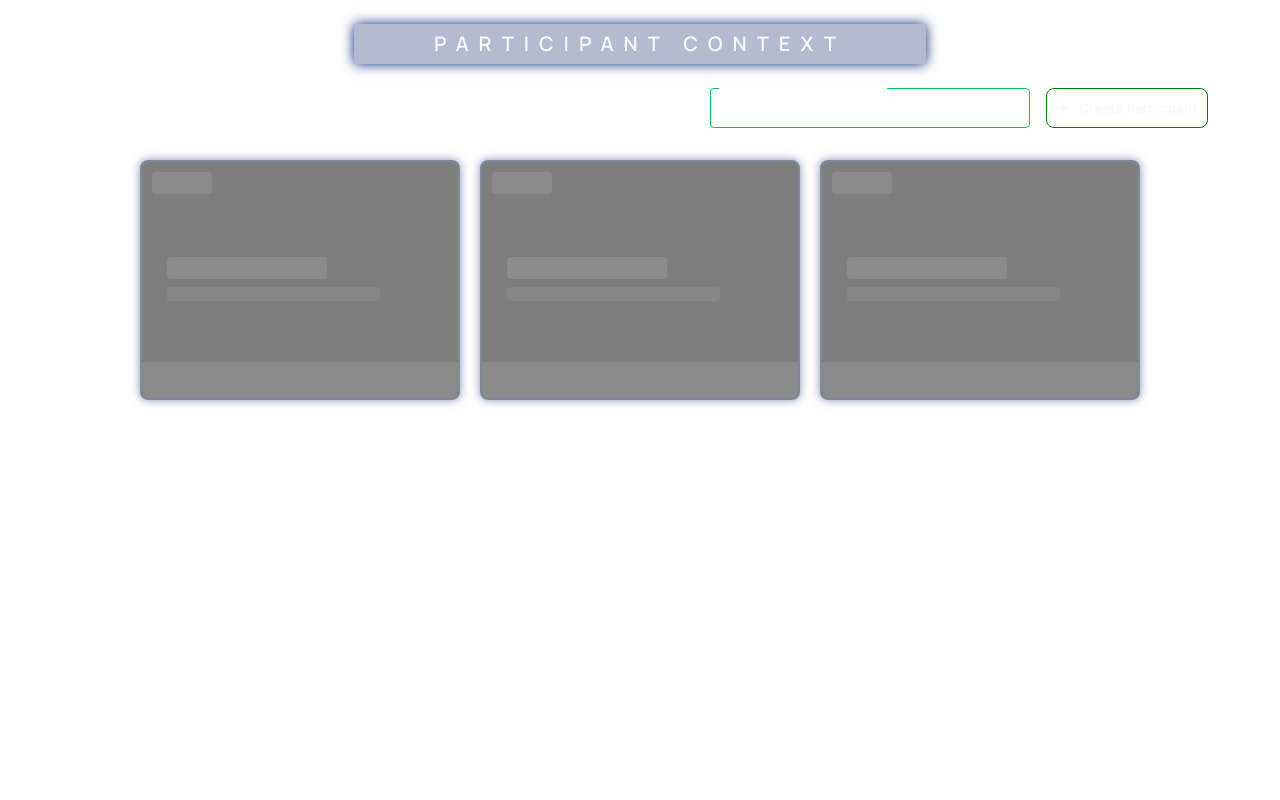
ParticipantsPage › should disable Create button when participant ID is empty
Click the button "Create Participant" at (1127, 108), box [1046,88,1208,128]
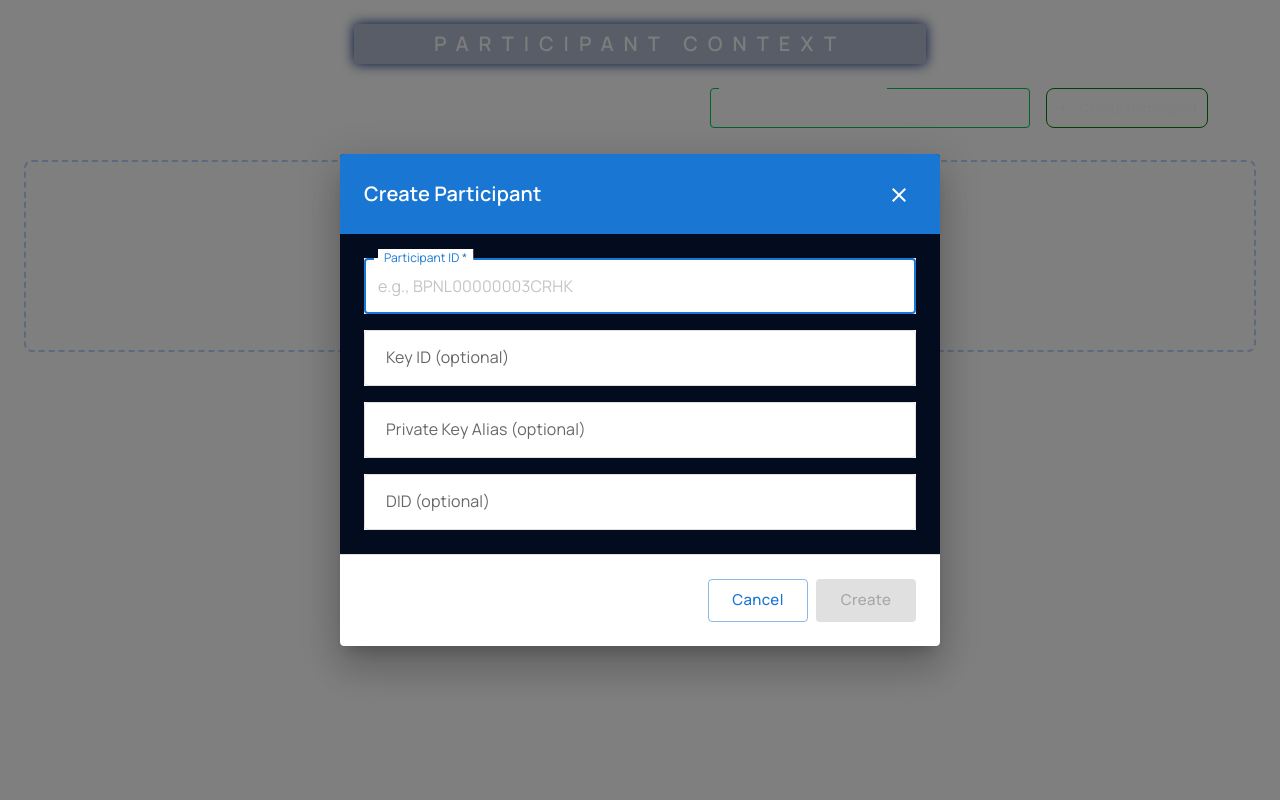
Now the field labelled "Participant ID *" is shown, box [364,258,916,314]
Now the button "Create" is disabled, box [816,579,916,622]
